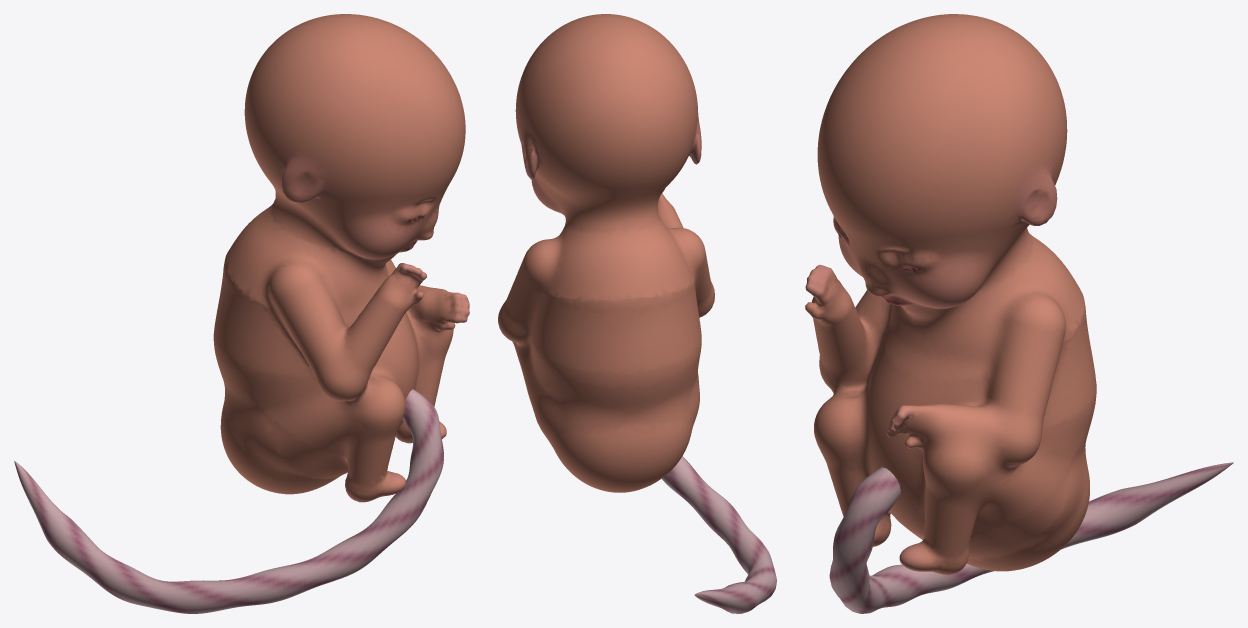
Rendered from week_32.glb.
The picture shows the model from 3 angles, left to right: view 1: azimuth 30°, elevation 25°; view 2: azimuth 150°, elevation 25°; view 3: azimuth 270°, elevation 25°; orthographic projection. The views are drawn at different scales.
Visible parts, largest first — view 1: skin, cord; view 2: skin, cord; view 3: skin, cord.
Boxes of the visible parts, box(x1,y1,x2,y2) form: skin: box(213, 14, 469, 502); cord: box(14, 389, 443, 613); skin: box(498, 14, 714, 492); cord: box(662, 456, 776, 613); skin: box(805, 14, 1096, 574); cord: box(829, 462, 1233, 613).
Bounding box in the file's own units: 1.76 × 2.79 × 1.66.
